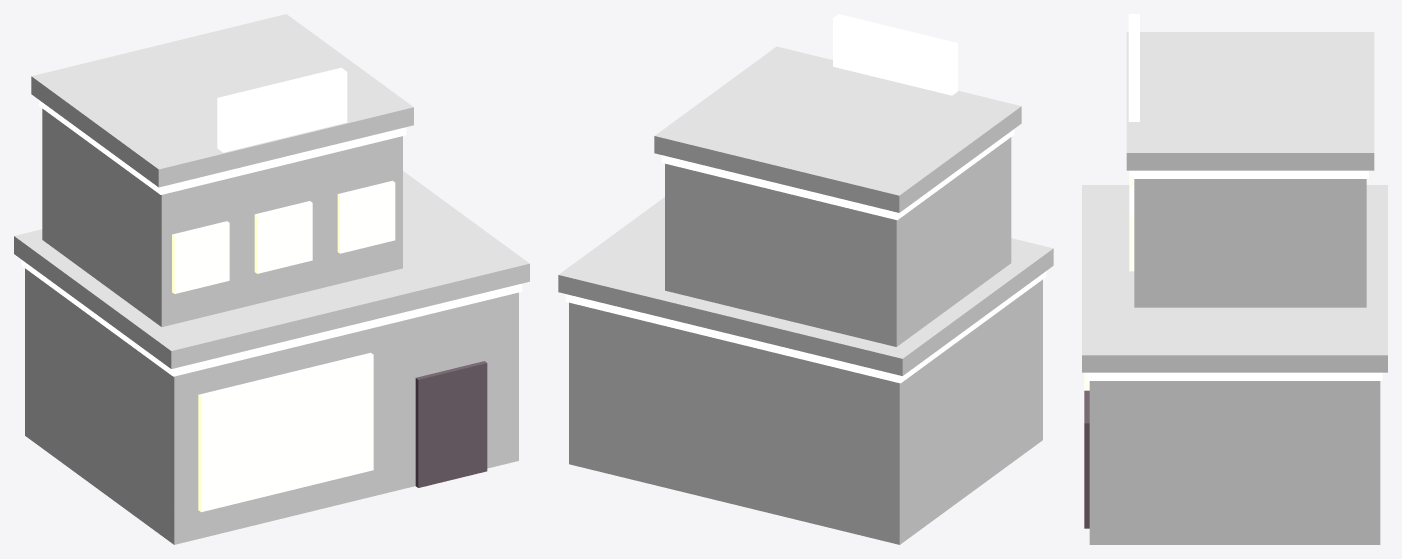
Rendered from tier_1_epic.glb.
3 renders of one model, left to right at view 1: azimuth 30°, elevation 25°; view 2: azimuth 150°, elevation 25°; view 3: azimuth 270°, elevation 25°, orthographic. The views are drawn at different scales.
Visible parts, largest first — view 1: Body, Upper, RoofTop, RoofSlab, GlassWall, Door, Sign, Eave, WindowHigh1, WindowHigh2, WindowHigh0, UpperEave; view 2: Body, Upper, RoofTop, RoofSlab, Sign, Eave, UpperEave; view 3: Body, RoofTop, Upper, RoofSlab, Eave, UpperEave, Sign, Door, WindowHigh2.
Boxes of the visible parts, x1,y1,x2,y2 form: Body: [25, 268, 518, 544]; Upper: [42, 108, 402, 326]; RoofTop: [31, 14, 413, 187]; RoofSlab: [14, 171, 529, 368]; GlassWall: [198, 352, 373, 512]; Door: [415, 361, 487, 487]; Sign: [217, 67, 347, 152]; Eave: [21, 260, 522, 376]; WindowHigh1: [254, 201, 312, 273]; WindowHigh2: [337, 180, 395, 253]; WindowHigh0: [172, 221, 229, 293]; UpperEave: [39, 100, 406, 194]; Body: [569, 279, 1042, 544]; Upper: [665, 137, 1011, 346]; RoofTop: [654, 46, 1021, 212]; RoofSlab: [558, 197, 1053, 375]; Sign: [833, 14, 957, 95]; Eave: [565, 271, 1046, 383]; UpperEave: [661, 129, 1014, 220]; Body: [1089, 381, 1380, 544]; RoofTop: [1126, 32, 1374, 170]; Upper: [1134, 179, 1366, 307]; RoofSlab: [1082, 185, 1387, 372]; Eave: [1087, 372, 1382, 380]; UpperEave: [1132, 170, 1368, 178]; Sign: [1128, 14, 1139, 121]; Door: [1084, 390, 1089, 528]; WindowHigh2: [1129, 189, 1134, 271].
Bounding box in the file's own units: 10.4 × 11.4 × 7.9.
